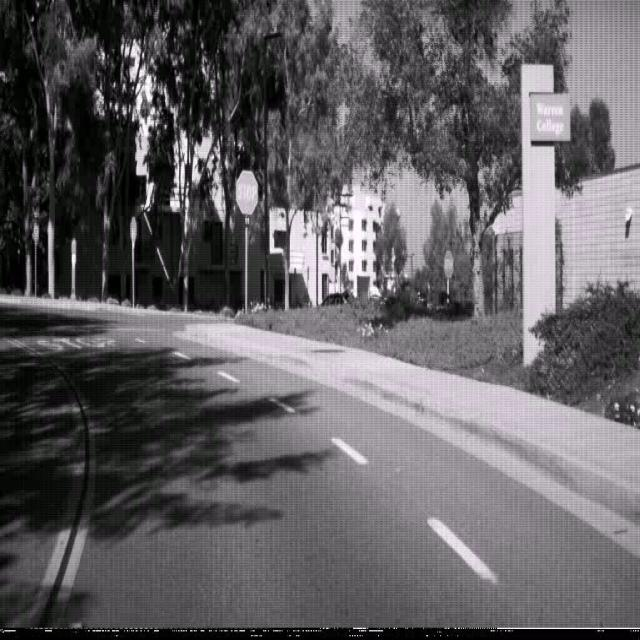stop: (235, 169, 258, 215), (443, 249, 454, 278)
